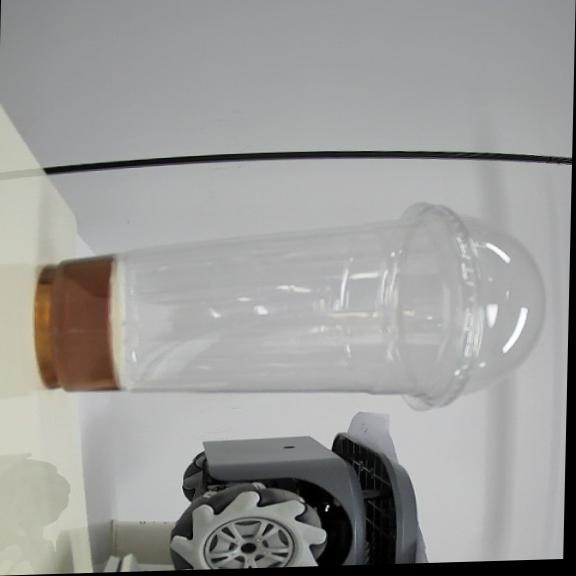Plastik: (35, 203, 544, 409)
